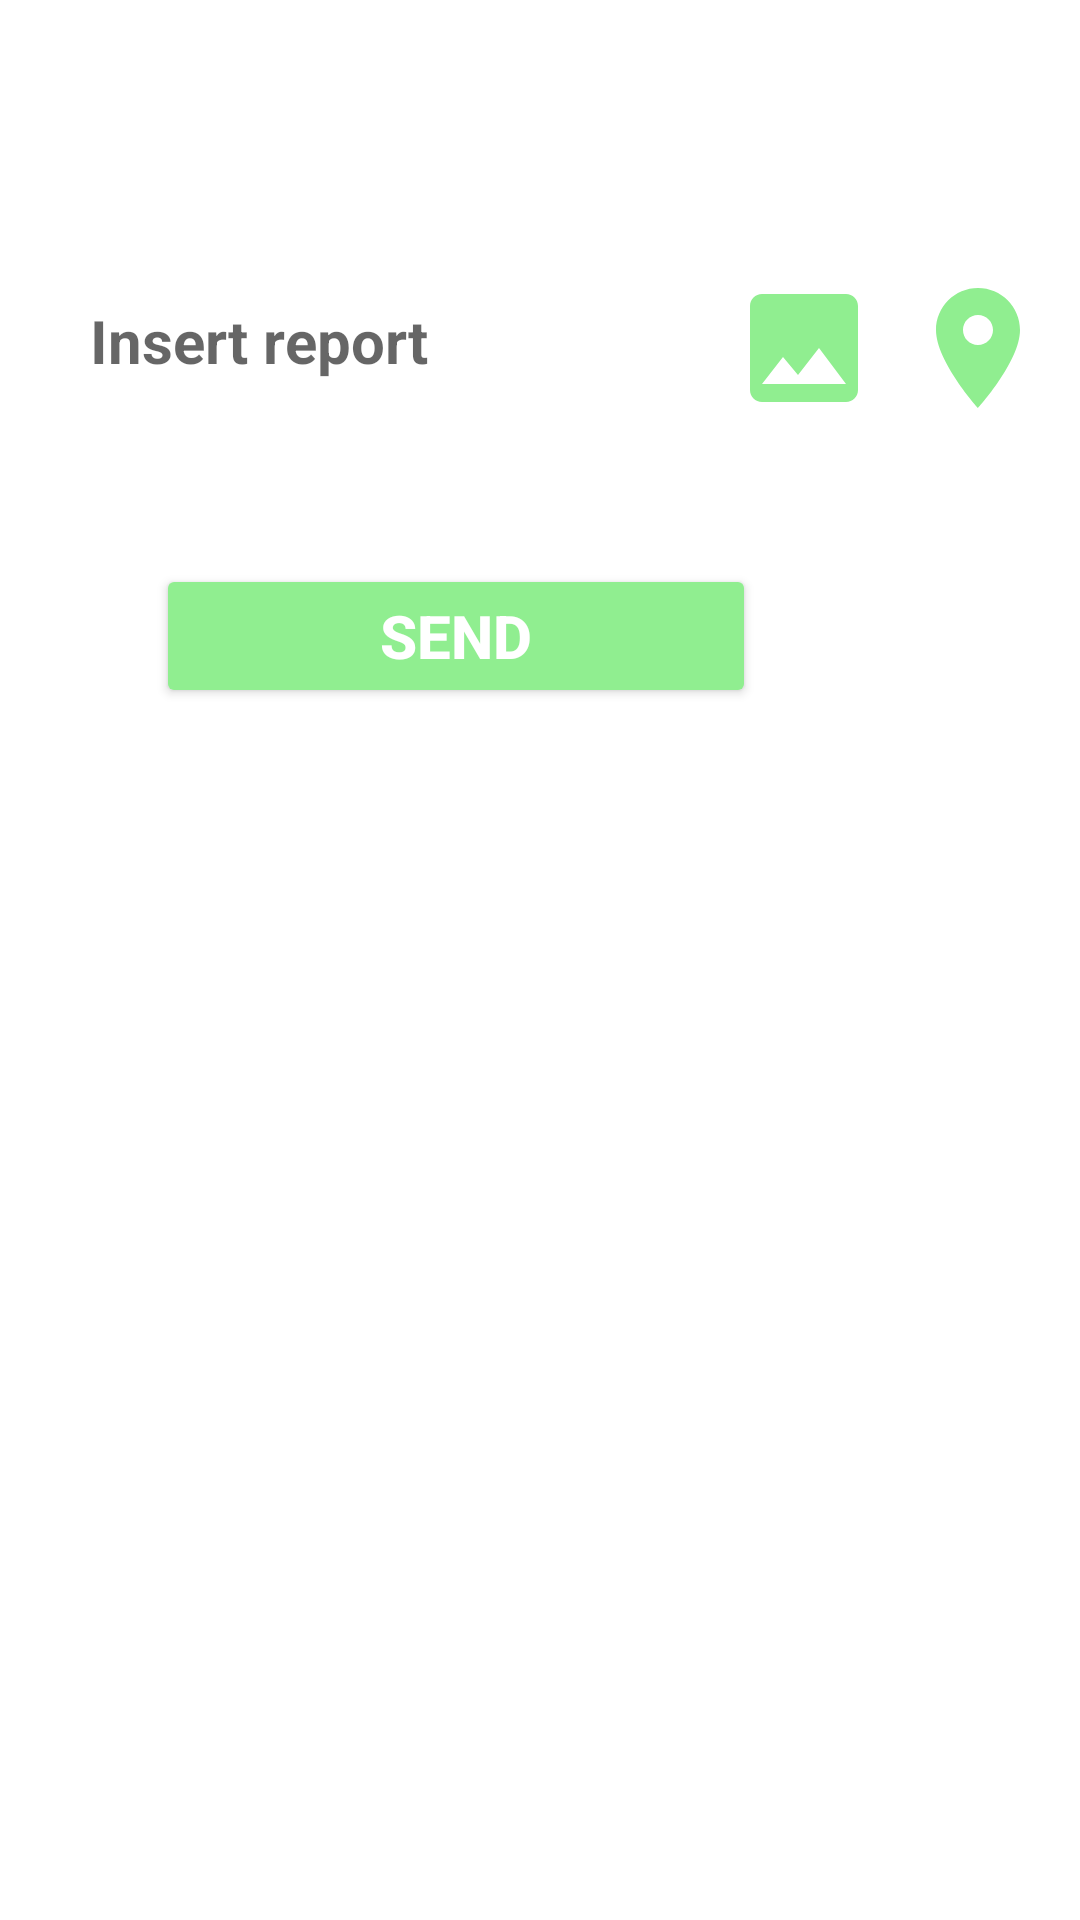

Where to tap for icons on this 1080x1920 app screen, as [x,y]:
location on: [978,348]
